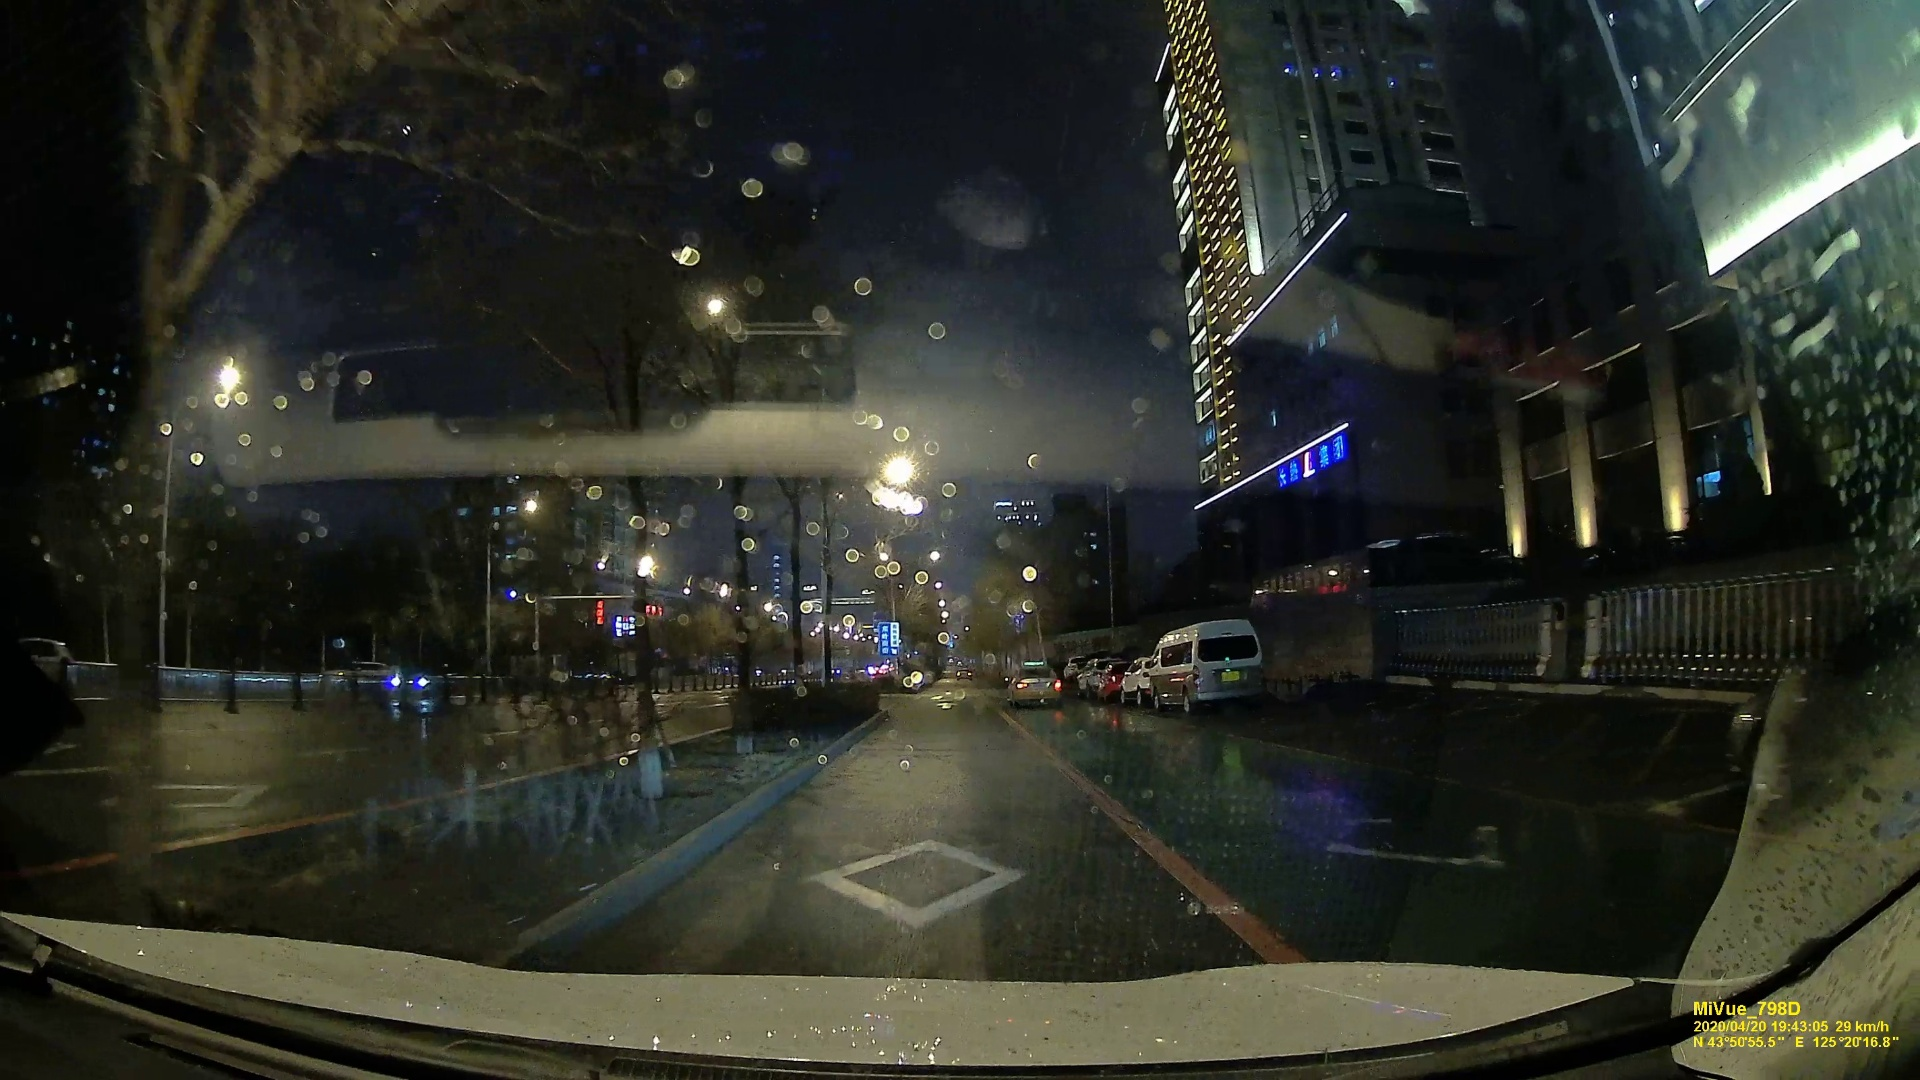minibus: (1153, 618, 1273, 709)
vehicle: (1011, 661, 1063, 707), (386, 665, 434, 695)
